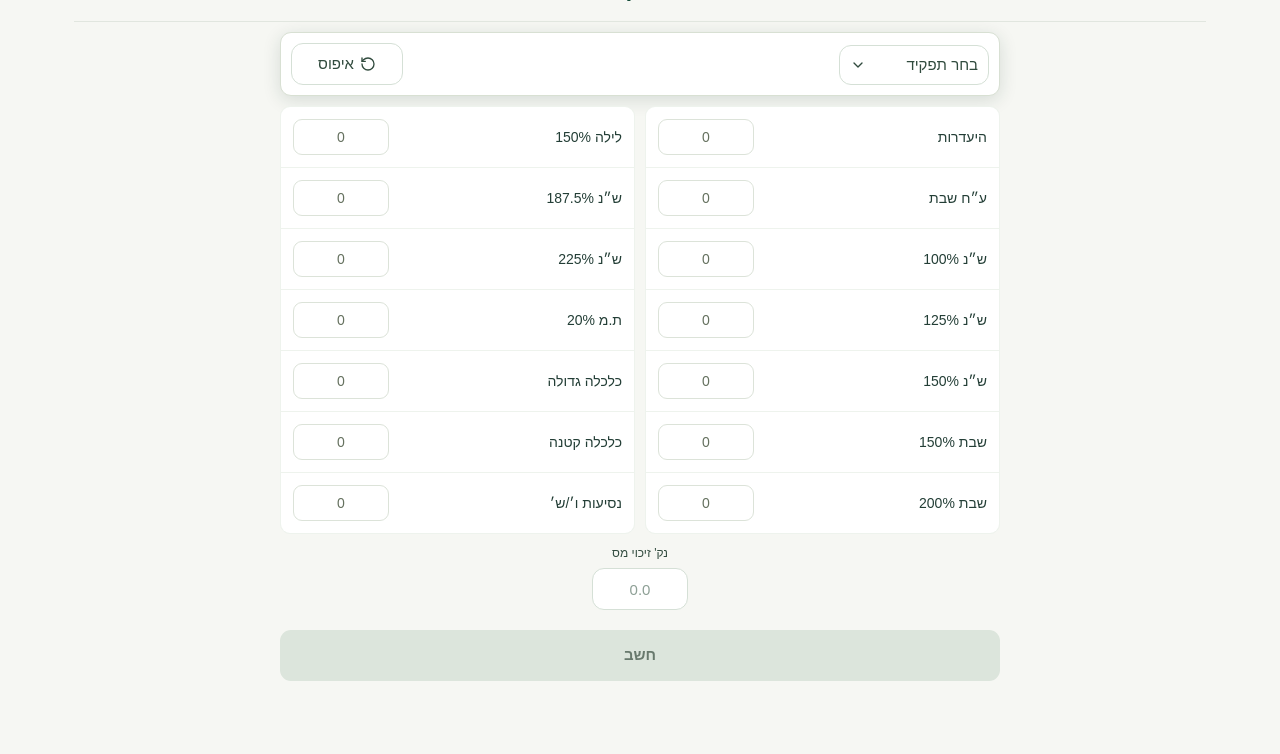
Scenario: keeps automatic contributions and travel active while hiding their form sections
Click the button labelled "בחר תפקיד" at (914, 65), box [839, 45, 989, 85]
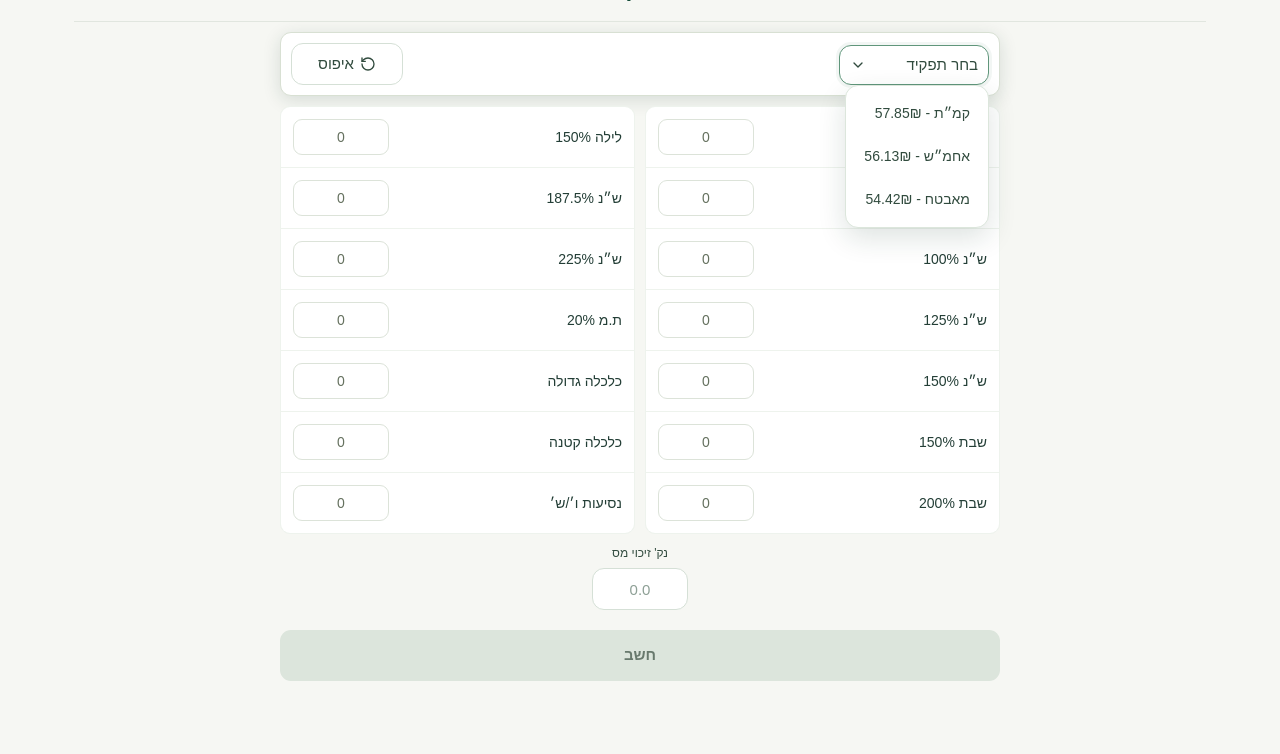
Click the button "קמ״ת - 57.85₪" at (917, 114), box [852, 92, 982, 135]
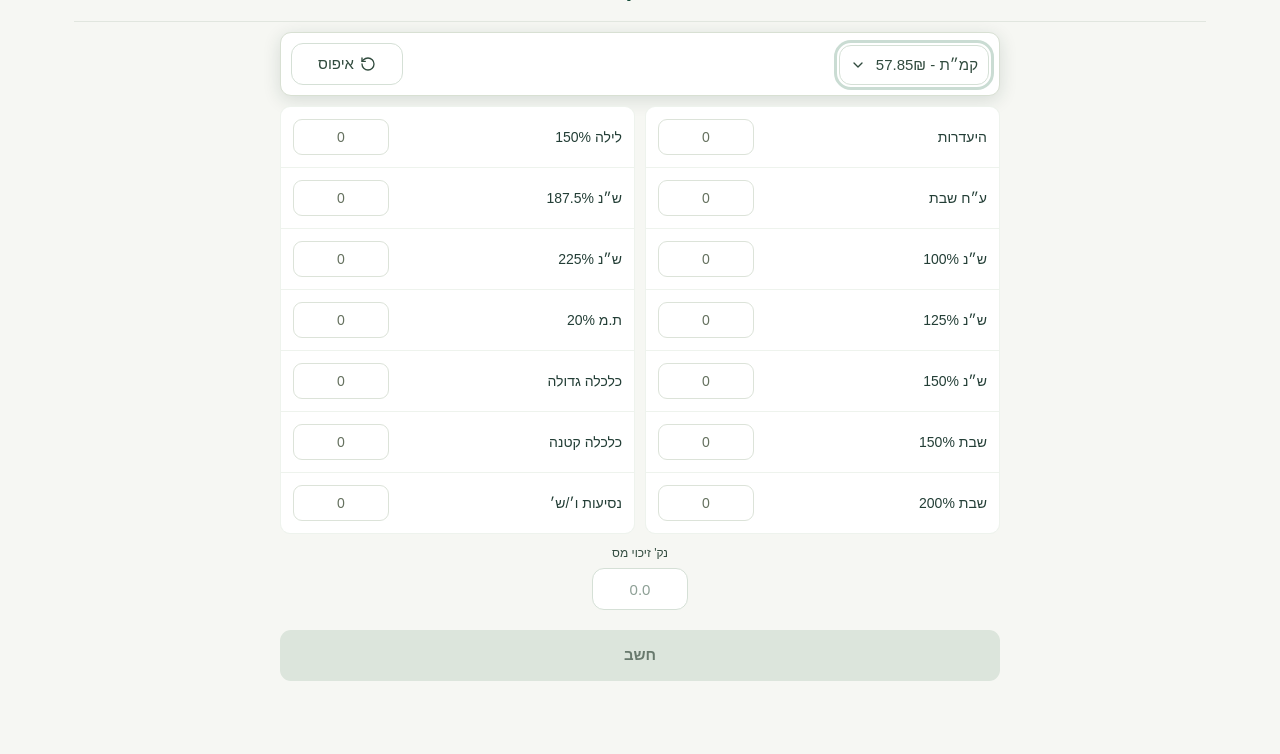
Type "100" into the field named "שעות רגילות" at (706, 259), box [658, 241, 754, 277]
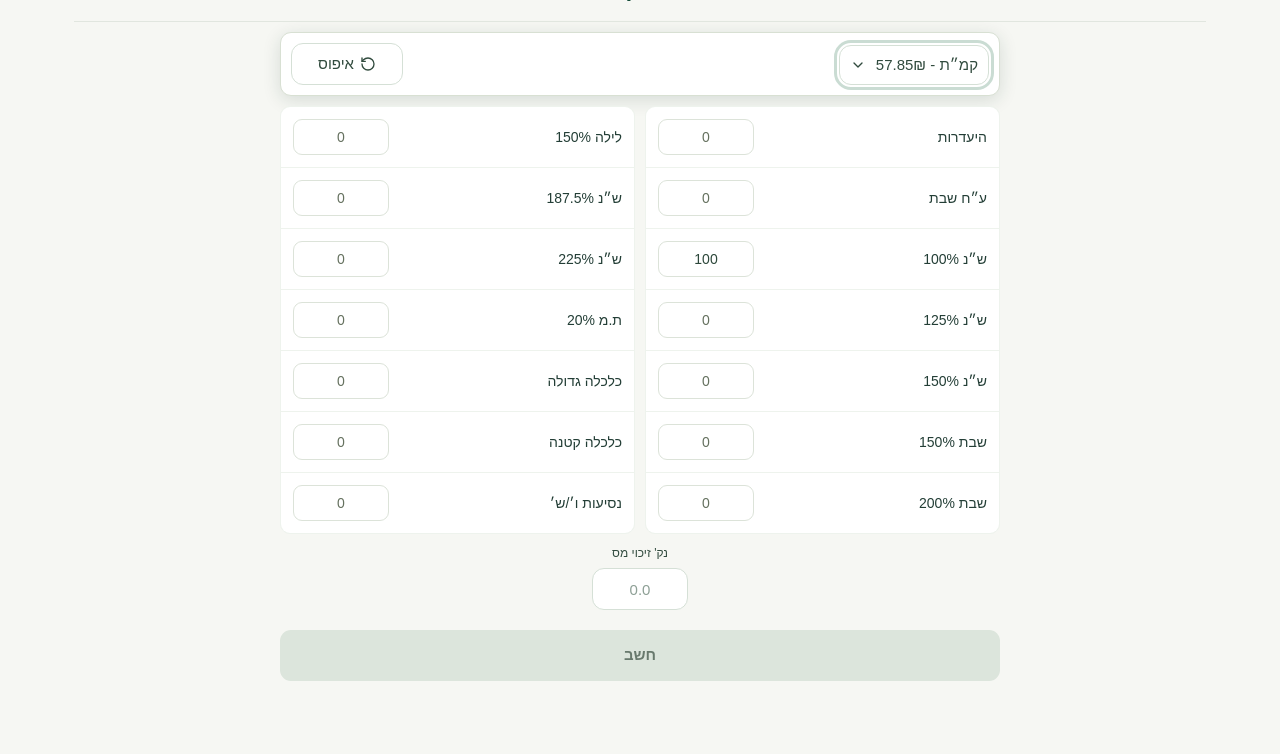
Type "2.25" into the field labelled "נק' זיכוי מס" at (640, 589), box [592, 568, 688, 610]
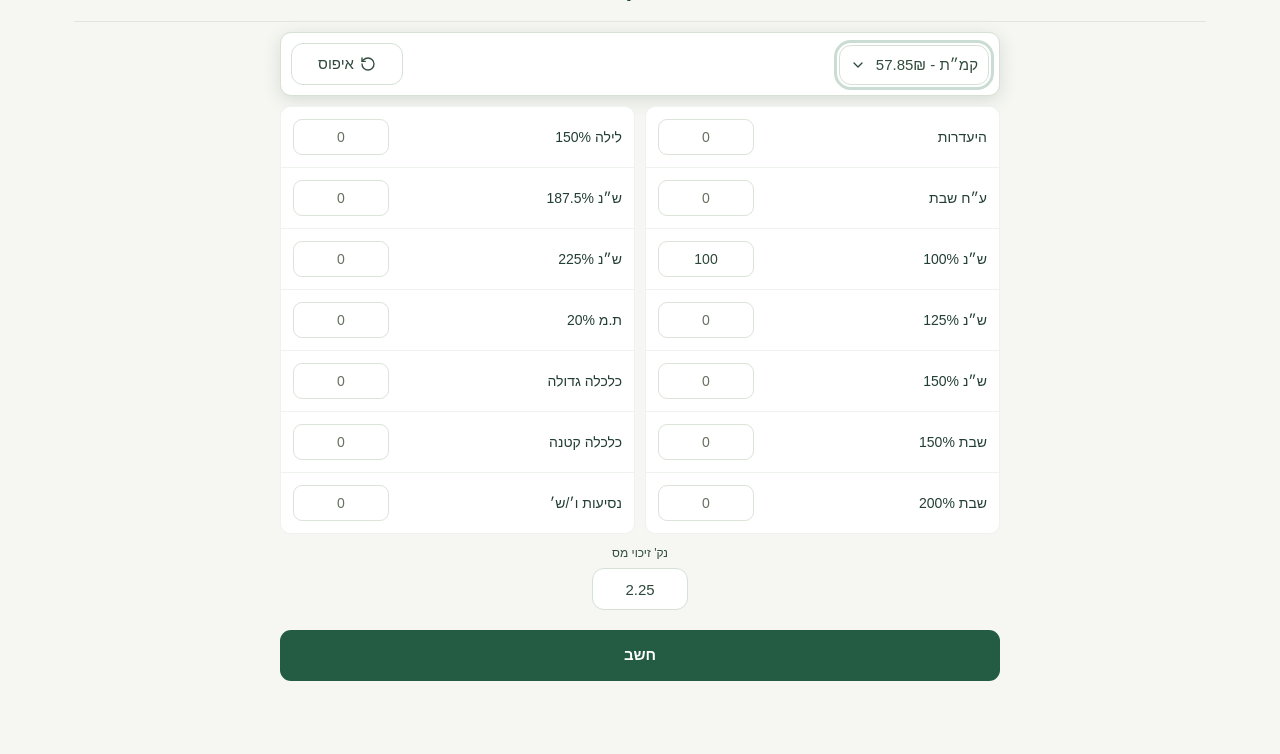
Click the button "חשב" at (640, 655), box [280, 630, 1000, 680]
(page scrolled)
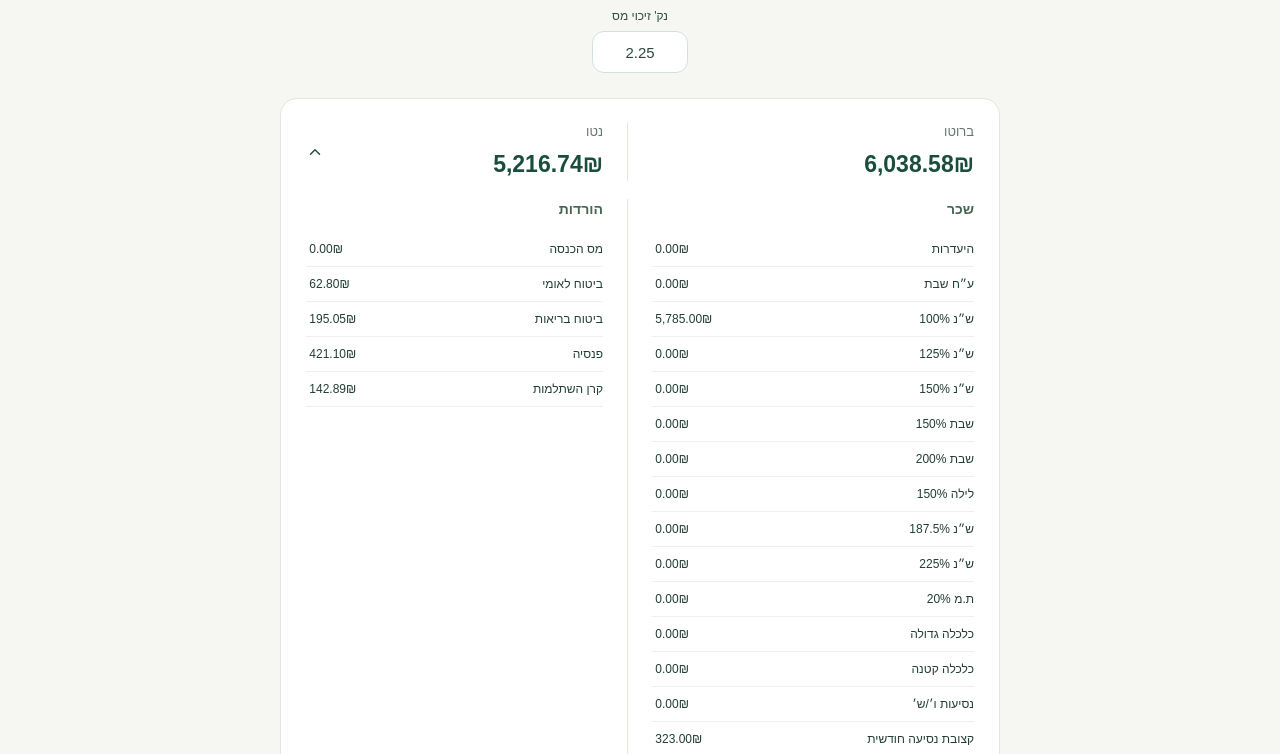
Expected: the text with test id "gross" shows "6,038.58", [858, 150, 974, 176]
Expected: the text "פנסיה" is shown, [573, 345, 603, 363]
